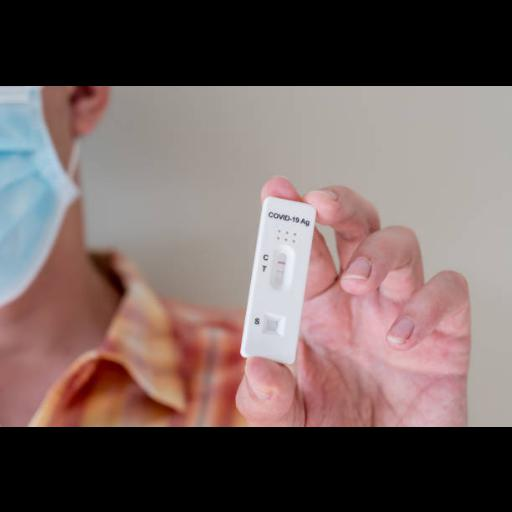Pos: (239, 196, 316, 364)
